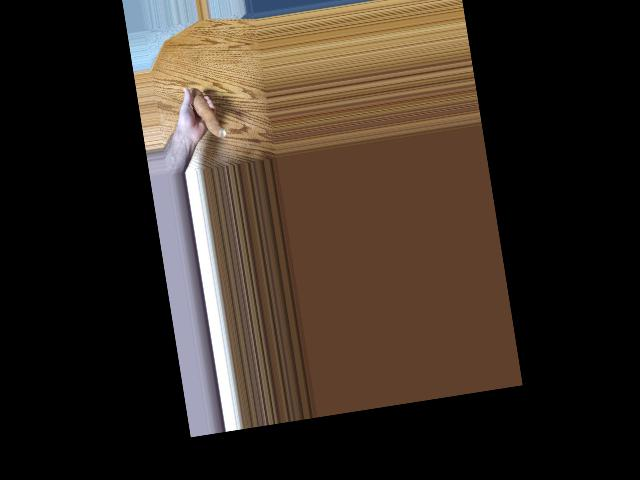sweet_potato: (189, 86, 227, 144)
